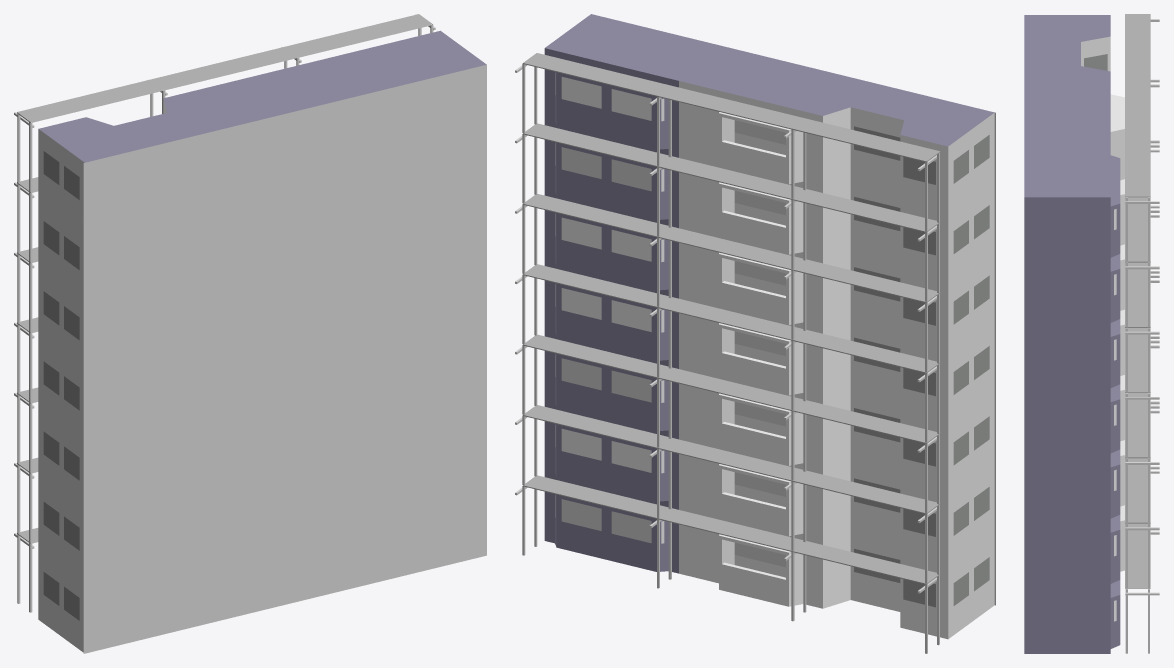
The model's file is SymetricElement.fbx.
The picture shows the model from 3 angles, left to right: view 1: azimuth 30°, elevation 25°; view 2: azimuth 150°, elevation 25°; view 3: azimuth 270°, elevation 25°; orthographic projection. The views are drawn at different scales.
Parts seen in each view (by area): view 1: Symetriclement1; view 2: Symetriclement1; view 3: Symetriclement1.
Boxes of the visible parts, <box> form: Symetriclement1: <box>14,14,486,653</box>; Symetriclement1: <box>515,14,995,653</box>; Symetriclement1: <box>1024,14,1159,653</box>.
Size of the model in its own units: 1819 by 2104 by 565.
